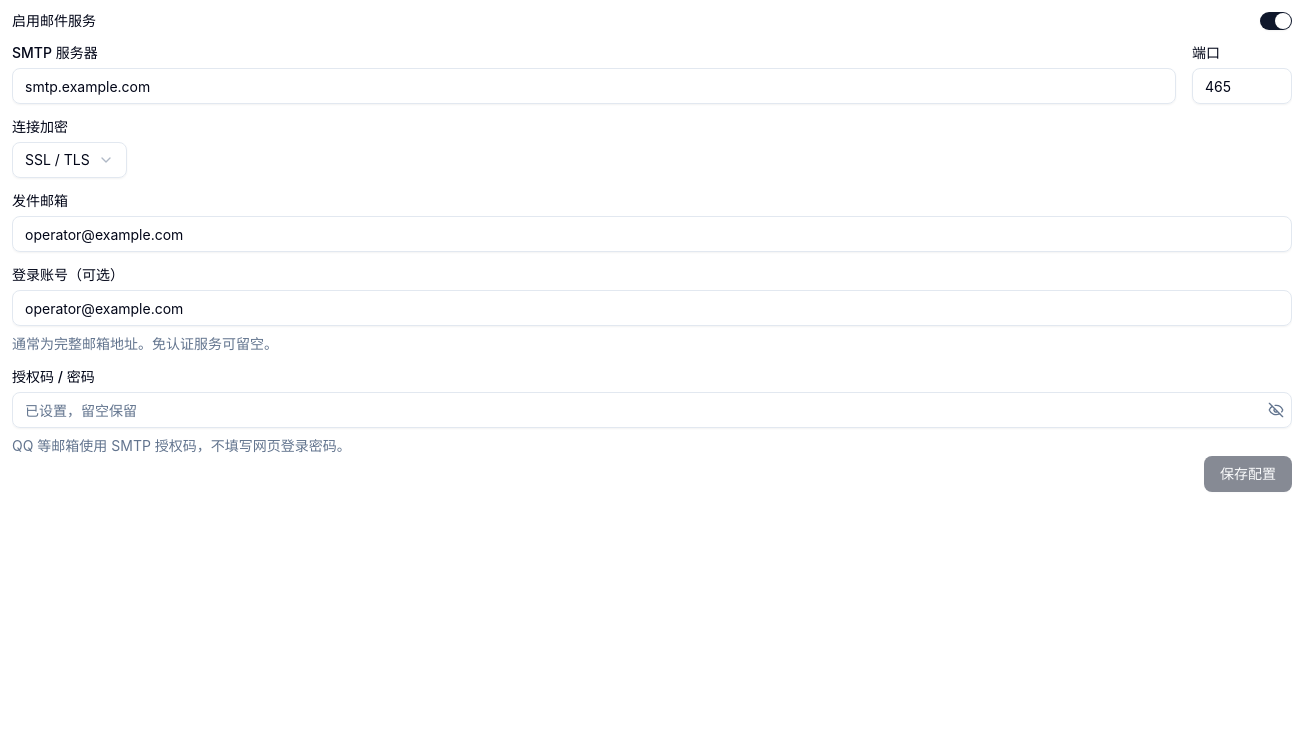
Test: requires a new password when the SMTP destination changes
Type "new.example.com" into the field labelled "SMTP 服务器" at (594, 86), box x1=12 y1=68 x2=1176 y2=104
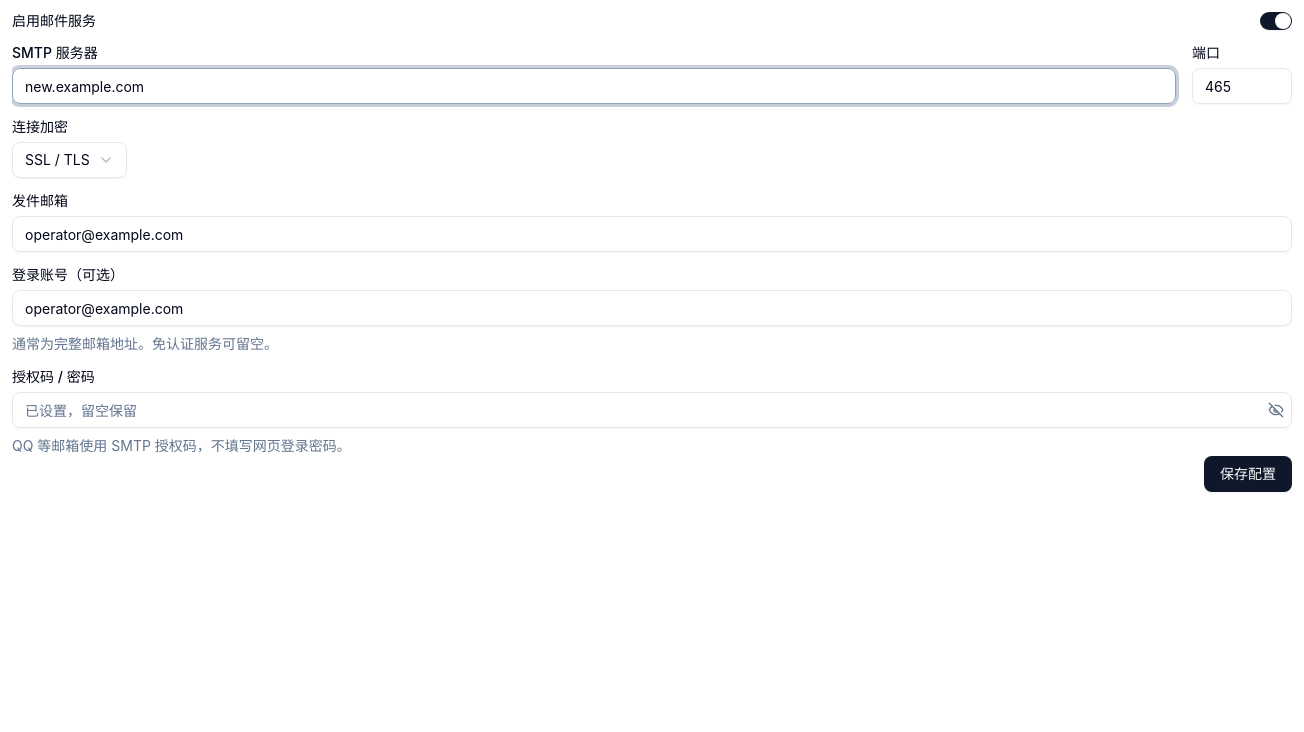
Click the button "保存配置" at (1248, 474), box x1=1204 y1=456 x2=1292 y2=492
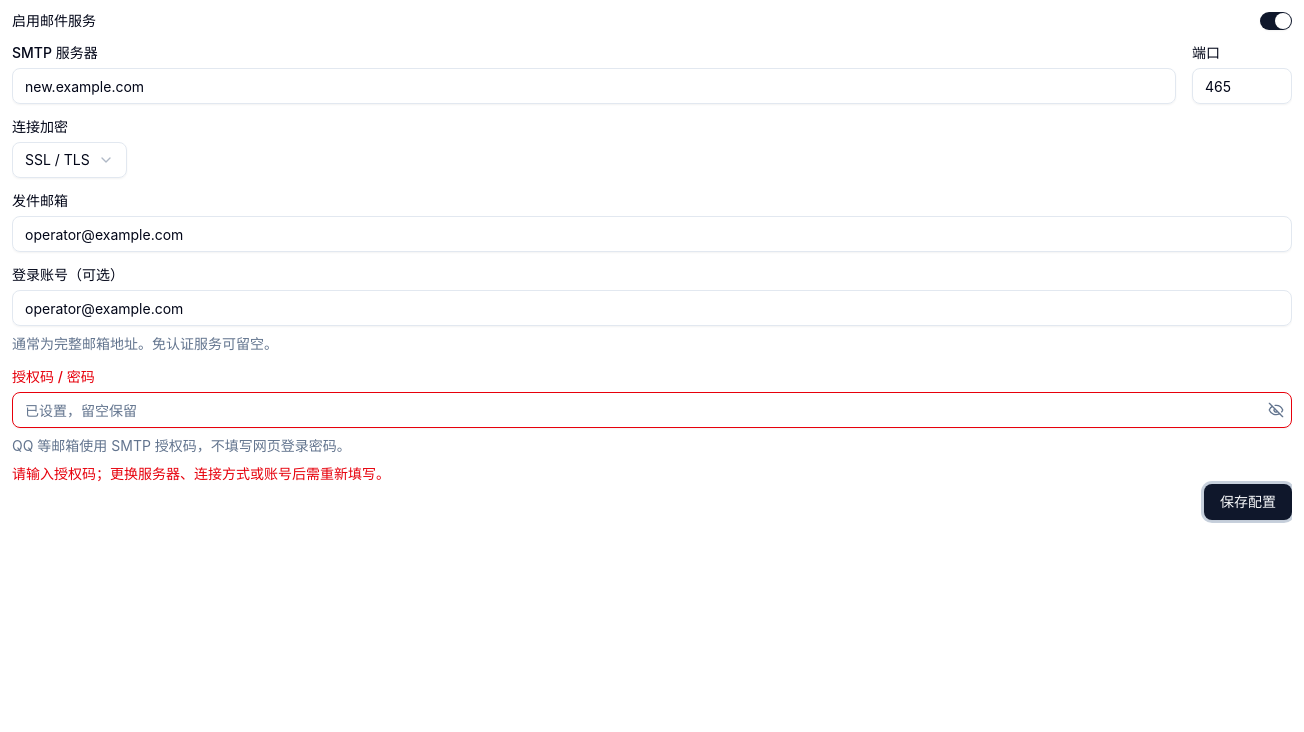
Expected: the text "请输入授权码；更换服务器、连接方式或账号后需重新填写。" is shown, x1=12 y1=465 x2=390 y2=482
